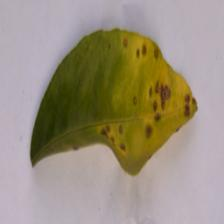canker: (101, 27, 201, 176)
